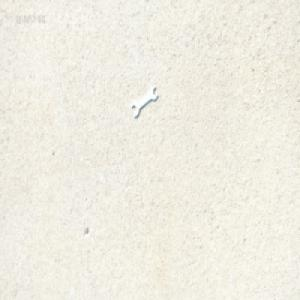Wrench: (130, 85, 158, 118)
